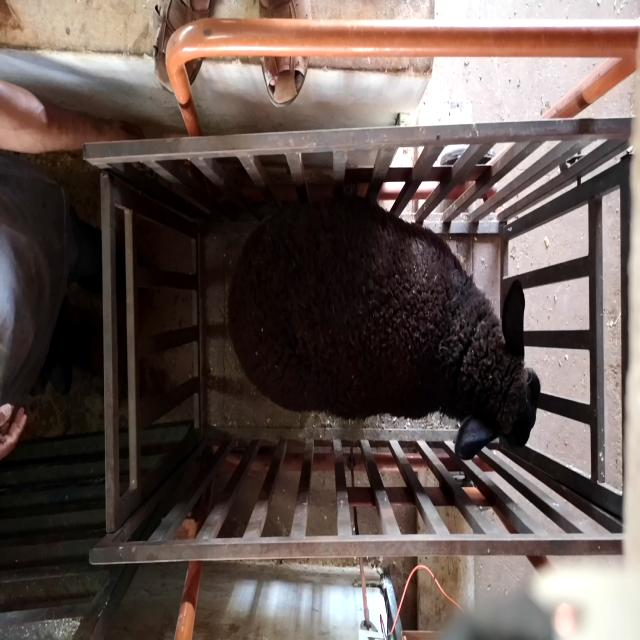sheep: (228, 193, 542, 460)
